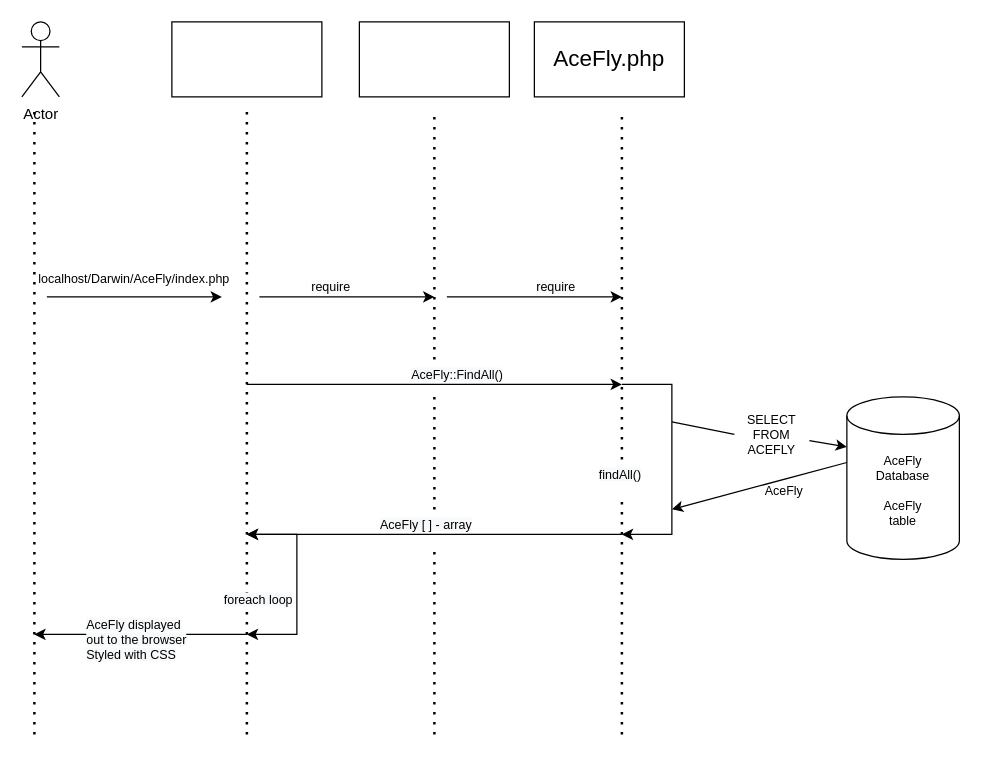
Image size: 981x759. Some labels were removed from this diagram. Each missing label, with the centre of its shape:
"config.php" belongs at point (433, 59).
"index.php" belongs at point (246, 59).
